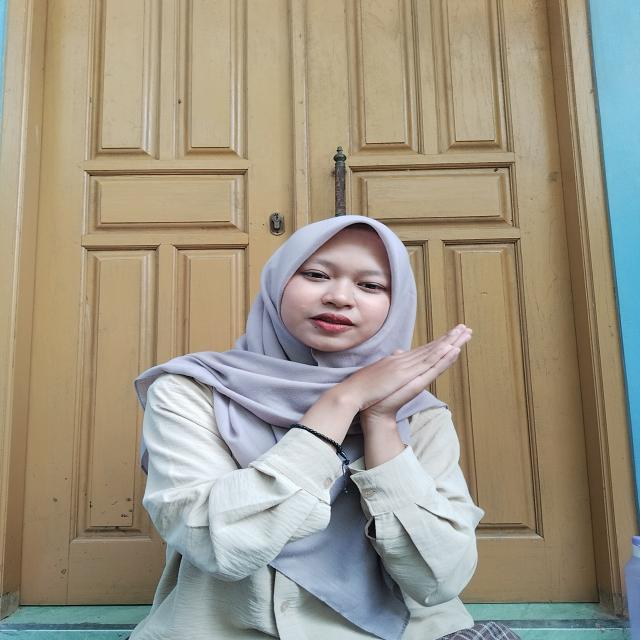tidur: (282, 319, 482, 456)
